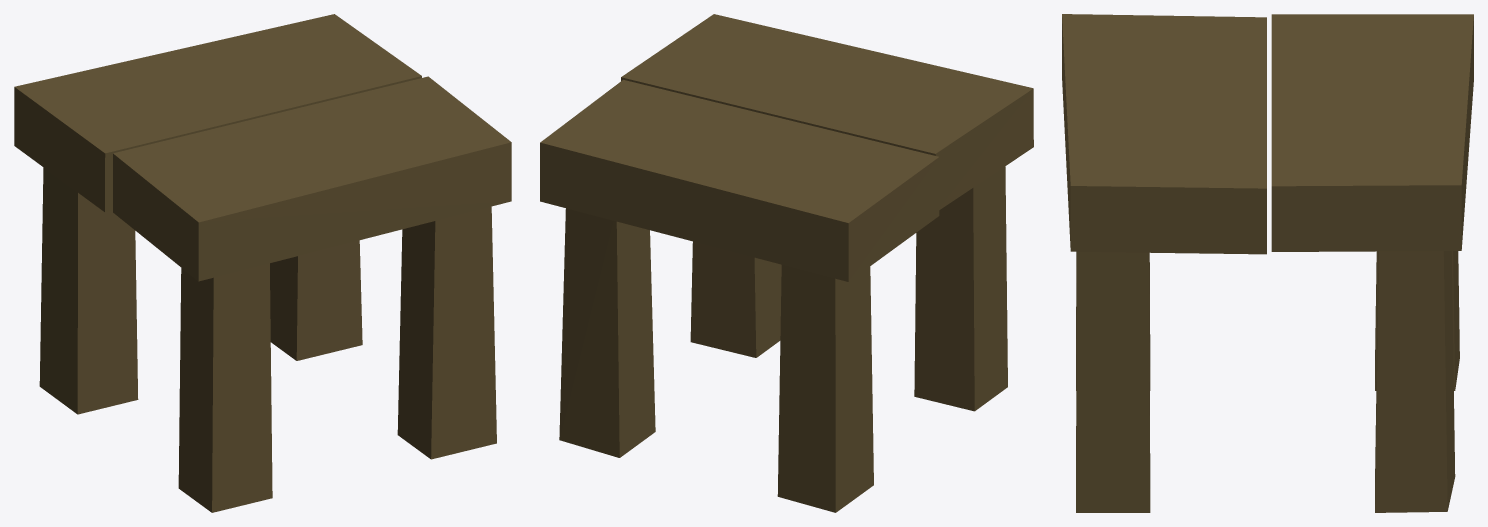
The model's file is Table 05.FBX.
The picture shows the model from 3 angles, left to right: view 1: azimuth 30°, elevation 25°; view 2: azimuth 150°, elevation 25°; view 3: azimuth 270°, elevation 25°; orthographic projection. The views are drawn at different scales.
Parts seen in each view (by area): view 1: Table 05; view 2: Table 05; view 3: Table 05.
Boxes of the visible parts, x1,y1,x2,y2 form: Table 05: (14,14,511,512); Table 05: (540,14,1033,512); Table 05: (1062,14,1473,512).
Size of the model in its own units: 79.61 by 70.88 by 79.3.
